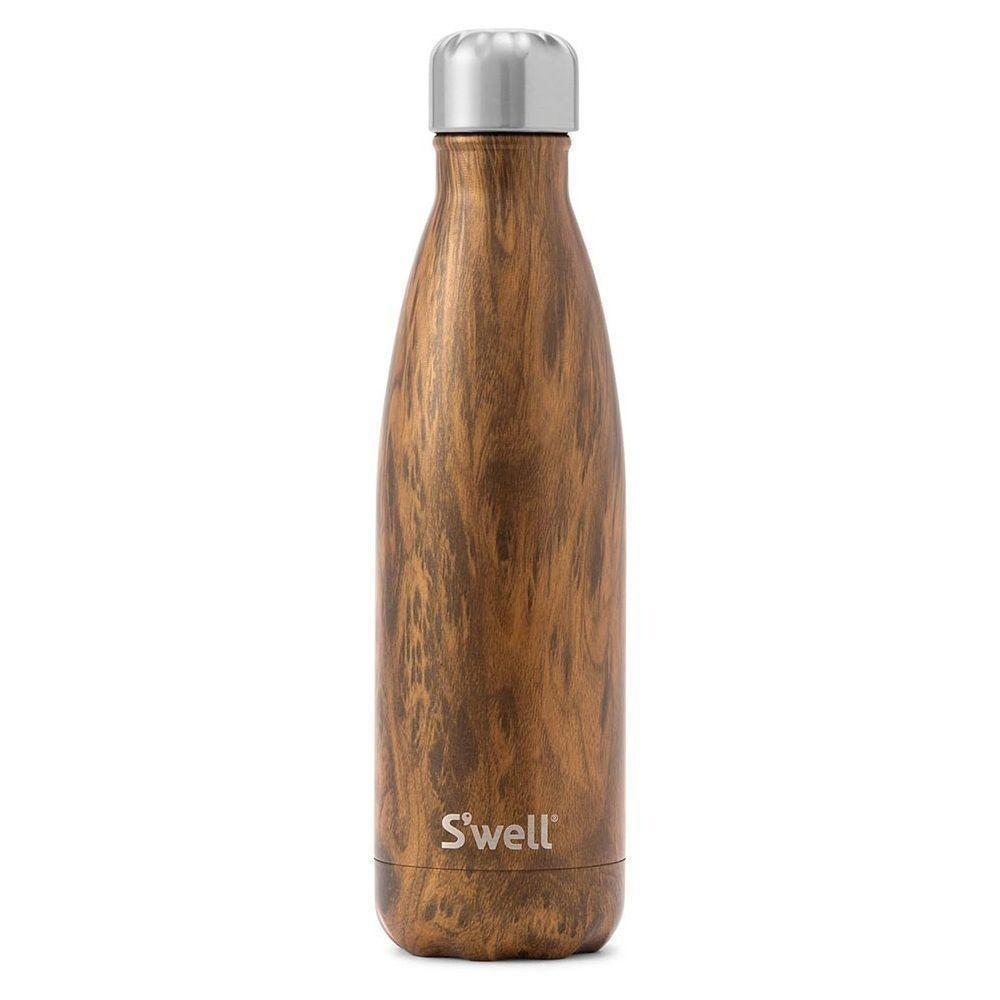gym bottle: (368, 18, 638, 976)
